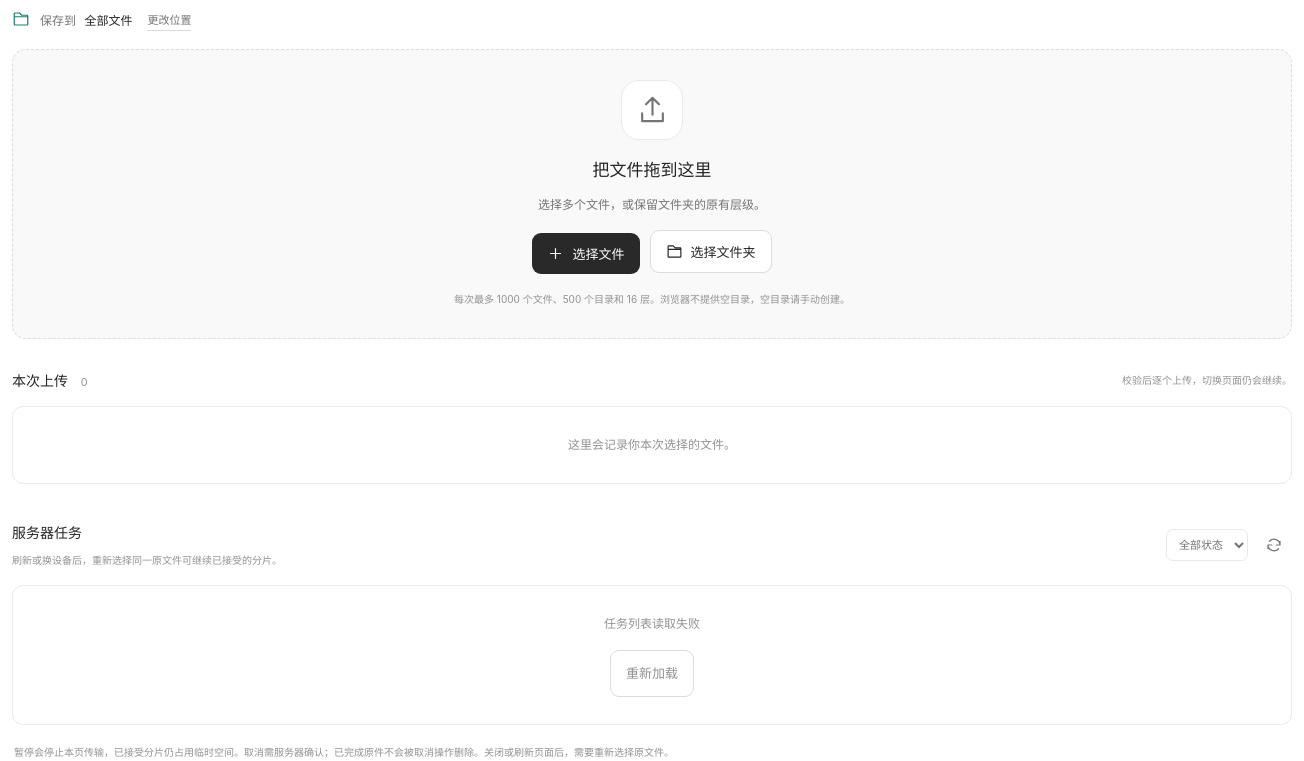
Test case: 上传中心界面 › 服务器加载失败可重试，不显示伪造任务
(page scrolled)
Expected: the message "任务列表读取失败" is shown, x1=604 y1=613 x2=700 y2=635
Click the button with class "secondary-button" showing "重新加载". click: (652, 673)
box: x1=610 y1=650 x2=694 y2=697
(page scrolled)
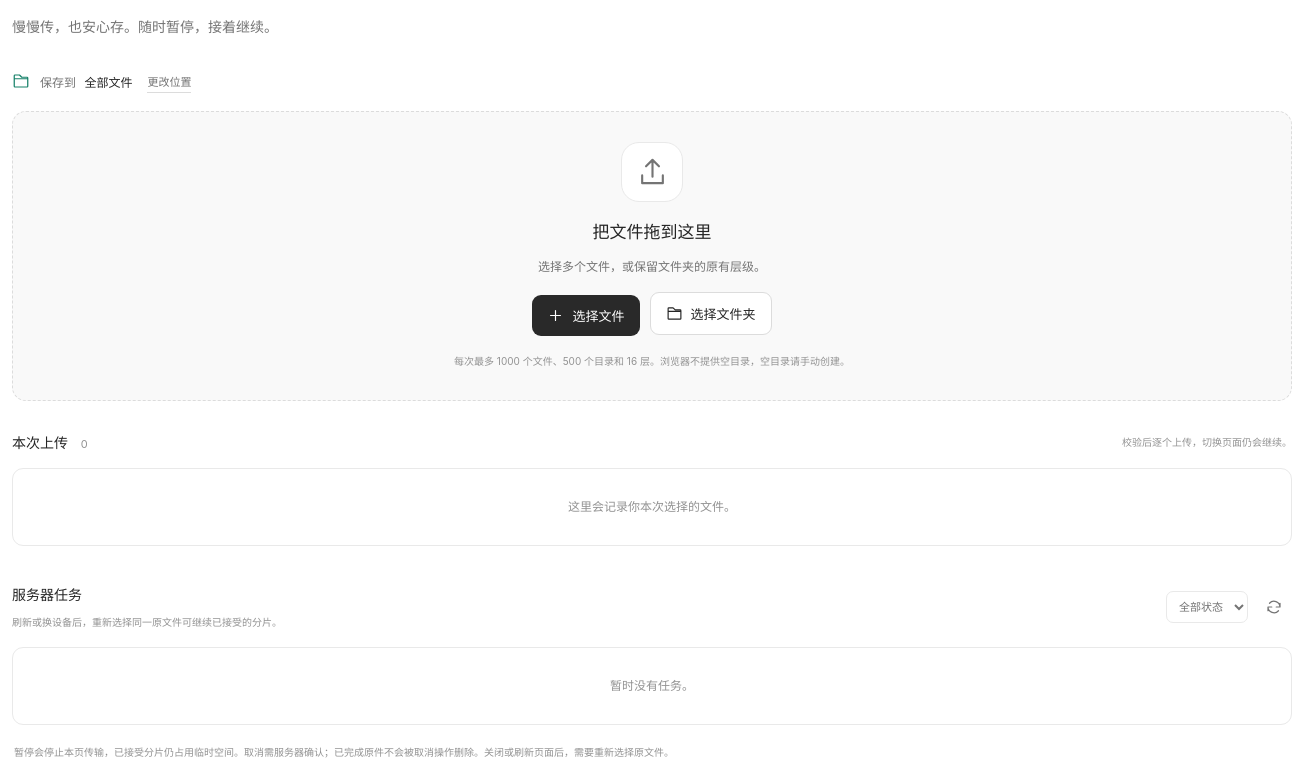
Expected: the element with class "server-upload-section" shows "暂时没有任务", x1=610 y1=678 x2=694 y2=693
